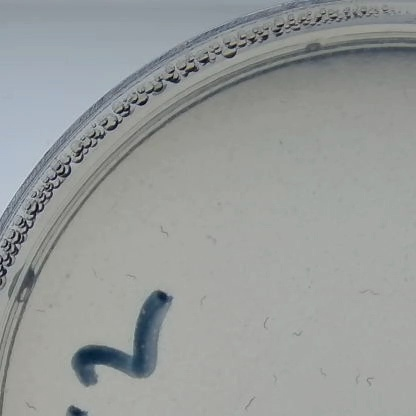worm: (30, 297, 58, 316), (351, 285, 384, 301), (240, 394, 262, 413), (313, 361, 335, 378), (268, 367, 287, 385), (259, 313, 273, 334), (24, 397, 43, 412), (194, 294, 211, 310), (362, 372, 378, 388), (199, 234, 222, 245), (351, 369, 362, 391), (123, 268, 143, 280), (293, 324, 306, 341), (158, 224, 173, 238), (88, 264, 104, 277)
